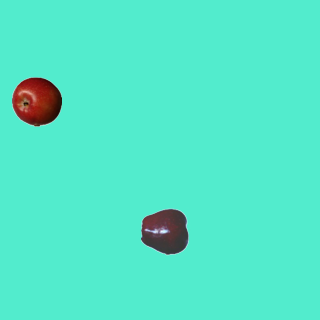Apple Braeburn: (11, 76, 61, 126)
Apple Red Delicious: (140, 206, 190, 256)
